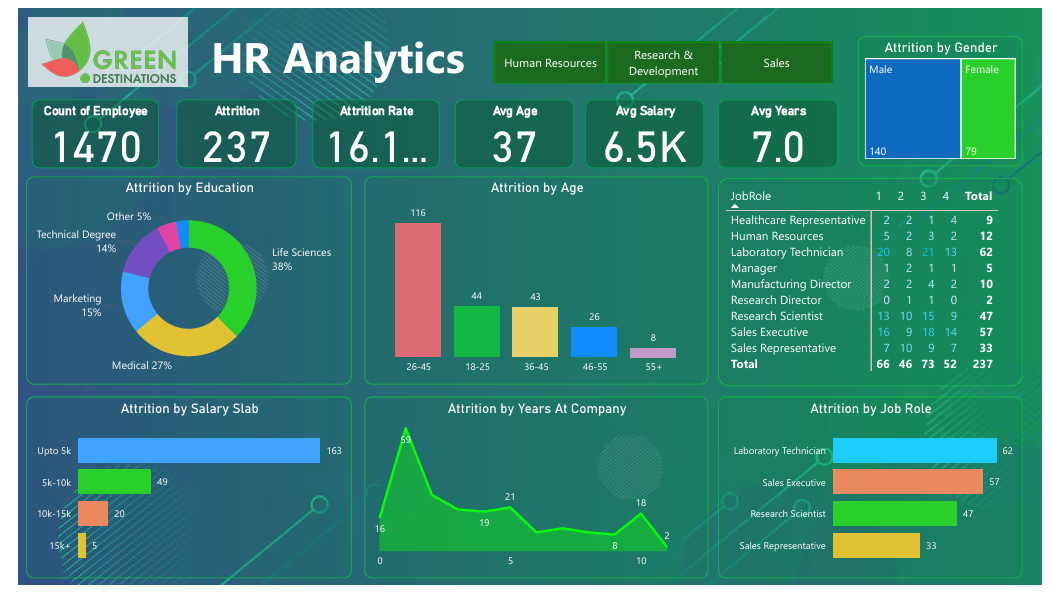

What the dashboard file says about the page in this screenshot:
{"tool":"powerbi","page":{"name":"Page 1","canvas":[1280,720],"ordinal":0},"visuals":[{"type":"card","title":"Count of Employee","fields":{"Values":["CountNonNull(greendestination.EmployeeID)"]},"box":[16.8,114.2,159.6,85.7],"z":0},{"type":"card","title":"Attrition","fields":{"Values":["Sum(greendestination.AttritionCount)"]},"box":[198.2,114.2,149.5,85.7],"z":1000},{"type":"card","title":"Attrition Rate","fields":{"Values":["greendestination.AttritionRate"]},"box":[367.9,114.2,159.6,85.7],"z":2000},{"type":"card","title":"Avg Years","fields":{"Values":["Avg(greendestination.YearsAtCompany)"]},"box":[875.2,114.2,149.5,85.7],"z":3000},{"type":"card","title":"Avg Age","fields":{"Values":["Avg(greendestination.Age)"]},"box":[545.9,114.2,149.5,85.7],"z":4000},{"type":"card","title":"Avg Salary","fields":{"Values":["Avg(greendestination.MonthlyIncome)"]},"box":[708.9,114.2,149.5,85.7],"z":5000},{"type":"donutChart","title":"Attrition by Education","fields":{"Category":["greendestination.EducationField"],"Y":["Sum(greendestination.AttritionCount)"]},"box":[10.1,210,406.5,260.4],"z":6000},{"type":"clusteredColumnChart","title":"Attrition by Age","fields":{"Category":["greendestination.AgeGroup"],"Y":["Sum(greendestination.AttritionCount)"]},"box":[433.4,210,430,260.4],"z":7000},{"type":"barChart","title":"Attrition by Salary Slab","fields":{"Category":["greendestination.SalarySlab"],"Y":["Sum(greendestination.AttritionCount)"]},"box":[10.1,485.5,406.5,226.8],"z":8000},{"type":"pivotTable","fields":{"Rows":["greendestination.JobRole"],"Columns":["greendestination.JobSatisfaction"],"Values":["Sum(greendestination.AttritionCount)"]},"box":[875.2,211.7,381.3,260.4],"z":9000},{"type":"barChart","title":"Attrition by Job Role","fields":{"Y":["Sum(greendestination.AttritionCount)"],"Category":["greendestination.JobRole"]},"box":[875.2,485.5,381.3,226.8],"z":10000},{"type":"areaChart","title":"Attrition by Years At Company","fields":{"Category":["greendestination.YearsAtCompany"],"Y":["Sum(greendestination.AttritionCount)"]},"box":[433.4,485.5,430,226.8],"z":11000},{"type":"treemap","title":"Attrition by Gender","fields":{"Values":["Sum(greendestination.AttritionCount)"],"Group":["greendestination.Gender"]},"box":[1049.9,35.3,206.6,161.3],"z":12000},{"type":"image","box":[13.4,11.8,199.9,87.3],"z":13000},{"type":"textbox","title":"HR Analytics","box":[225.1,18.5,349.4,80.6],"z":14000},{"type":"slicer","fields":{"Values":["greendestination.Department"]},"box":[574.5,35.3,463.6,63.8],"z":14001}]}

Visuals, with their boxes in screenshot pixels (x1, y1, x2, y2), scaled from the page's 1280x720 canvas onto the 1051x592 screenshot:
"Count of Employee" card: crop(14, 94, 145, 164)
"Attrition" card: crop(163, 94, 285, 164)
"Attrition Rate" card: crop(302, 94, 433, 164)
"Avg Years" card: crop(719, 94, 841, 164)
"Avg Age" card: crop(448, 94, 571, 164)
"Avg Salary" card: crop(582, 94, 705, 164)
"Attrition by Education" donutChart: crop(8, 173, 342, 387)
"Attrition by Age" clusteredColumnChart: crop(356, 173, 709, 387)
"Attrition by Salary Slab" barChart: crop(8, 399, 342, 586)
pivotTable - greendestination.JobRole x greendestination.JobSatisfaction: crop(719, 174, 1032, 388)
"Attrition by Job Role" barChart: crop(719, 399, 1032, 586)
"Attrition by Years At Company" areaChart: crop(356, 399, 709, 586)
"Attrition by Gender" treemap: crop(862, 29, 1032, 162)
image: crop(11, 10, 175, 81)
"HR Analytics" textbox: crop(185, 15, 472, 81)
slicer - greendestination.Department: crop(472, 29, 852, 81)
